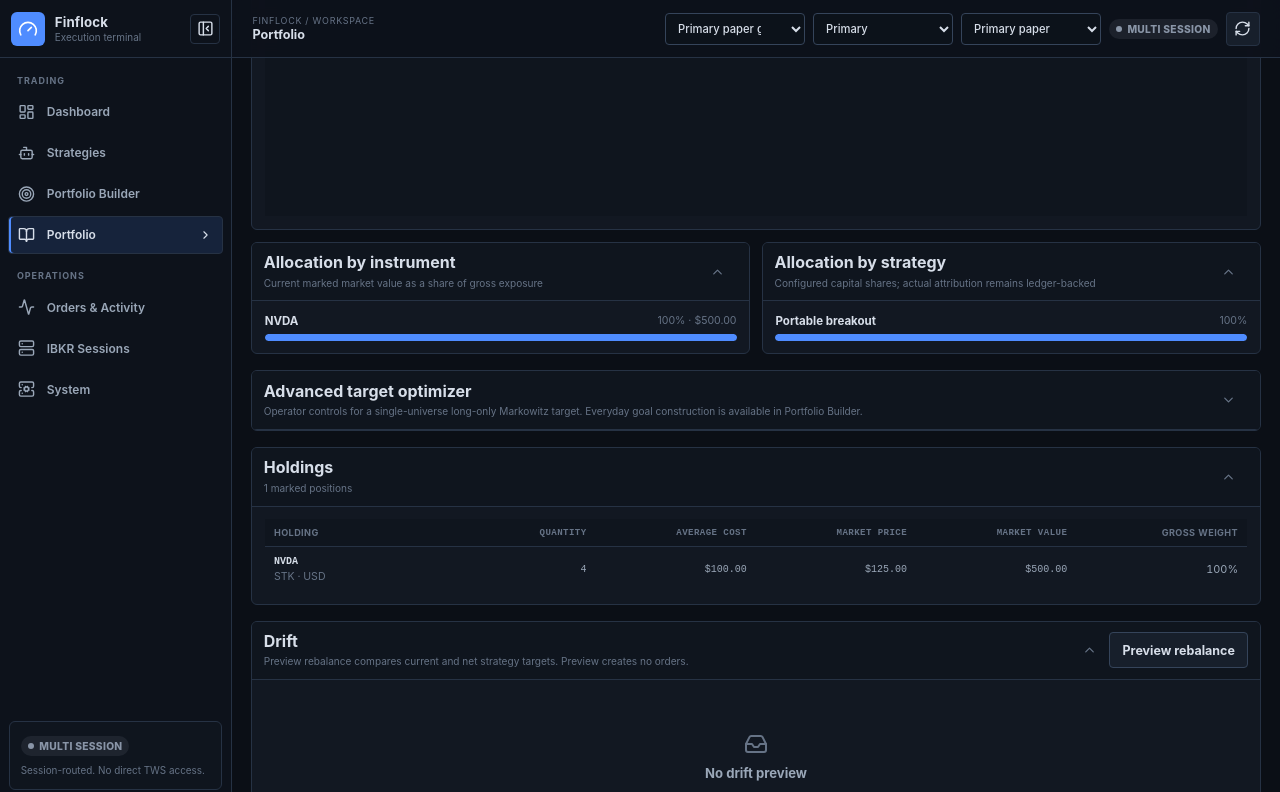
advanced optimizer labels a Gateway-derived Live apply explicitly
(page scrolled)
Click the button "Advanced target optimizer" at (368, 391), box x1=264 y1=381 x2=1236 y2=420
(page scrolled)
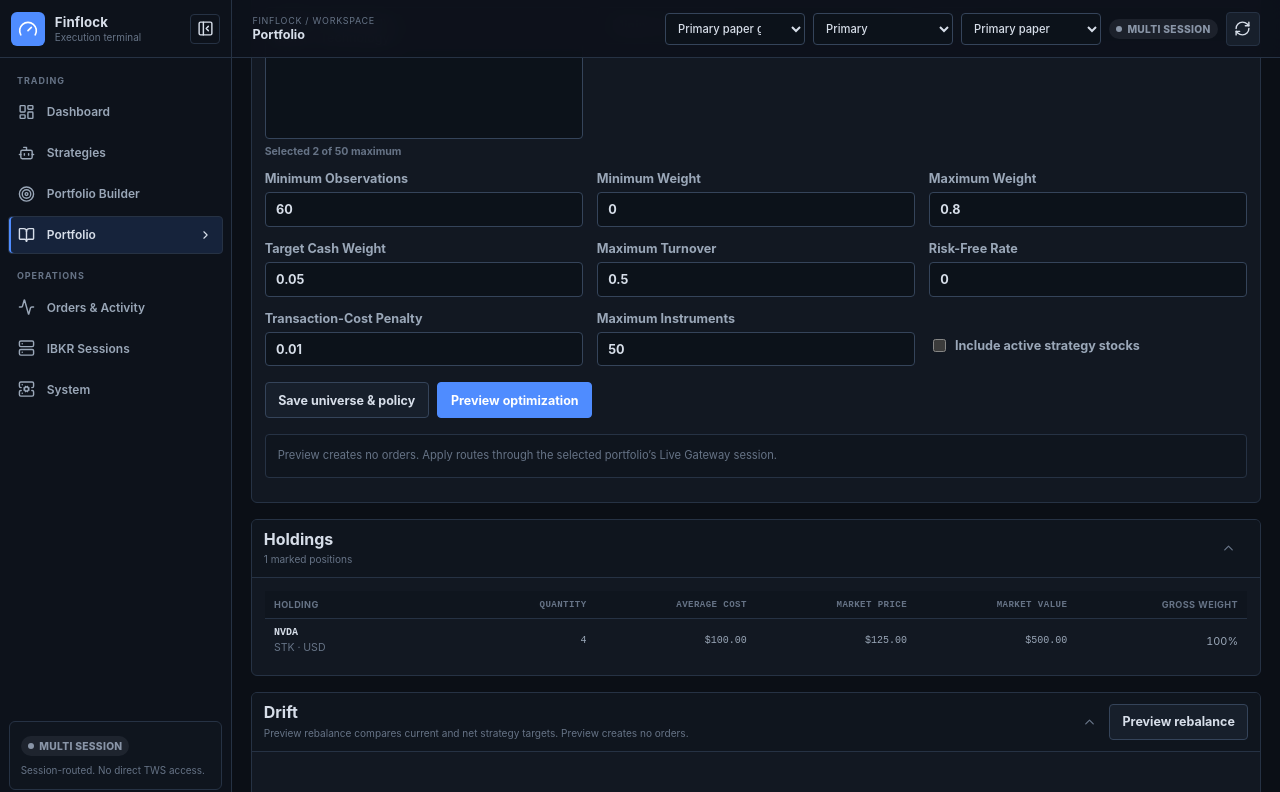
Expected: the button "Preview optimization" is enabled
Click the button "Preview optimization" at (515, 400), box x1=438 y1=382 x2=592 y2=418
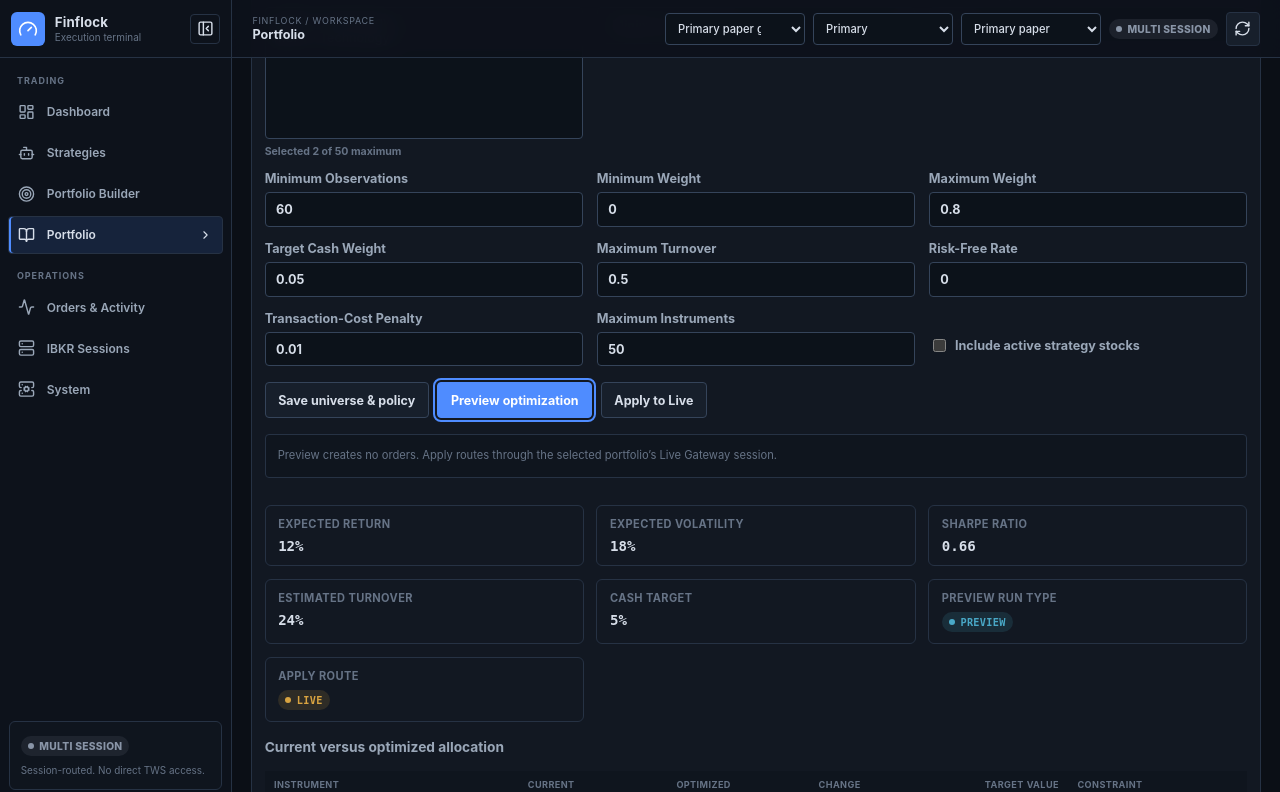
Expected: the button "Apply to Live" is shown, x1=601 y1=382 x2=707 y2=418
